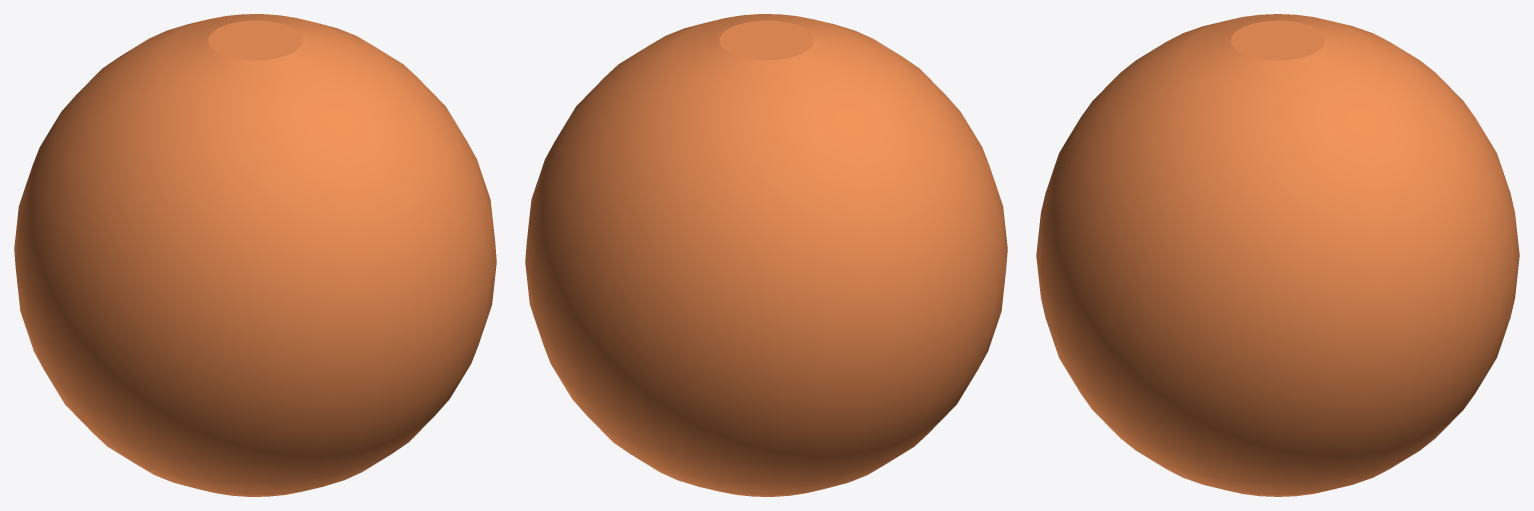
File: OrangePealed.FBX
3 renders of one model, left to right at view 1: azimuth 30°, elevation 25°; view 2: azimuth 150°, elevation 25°; view 3: azimuth 270°, elevation 25°, orthographic.
Parts seen in each view (by area): view 1: OrangePealed; view 2: OrangePealed; view 3: OrangePealed.
Boxes of the visible parts, box(x1,y1,x2,y2) form: OrangePealed: box(14, 14, 496, 496); OrangePealed: box(525, 14, 1007, 496); OrangePealed: box(1036, 14, 1519, 496).
Bounding box in the file's own units: 5.7 × 5.59 × 5.7.
